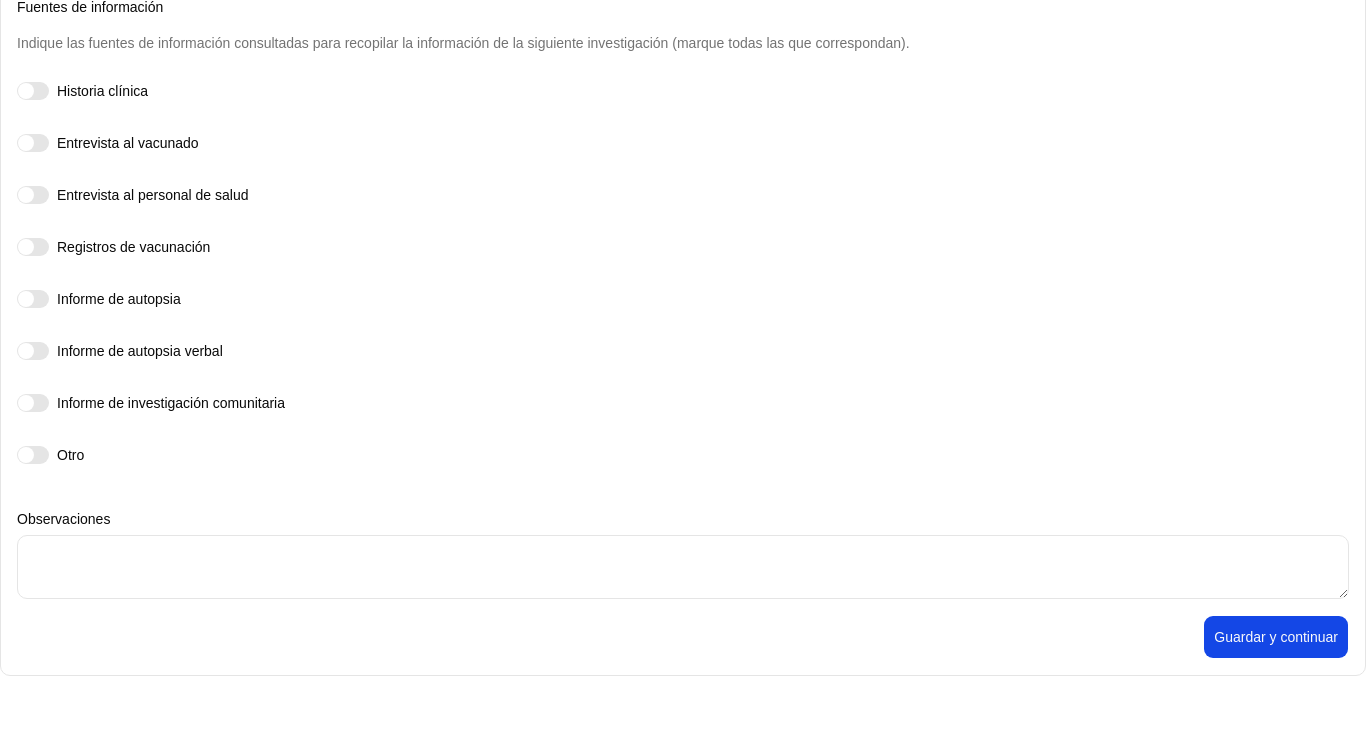
Test: InvestigationStep — recorrido de las tres secciones de embarazo (SPEC FE13b §4 paso 9) › cambio de desenlace con condiciones cargadas: no manda ninguna petición y abre el diálogo de bloqueo
Click the button "Guardar y continuar" at [1276, 637], box [1203,615,1349,659]
(page scrolled)
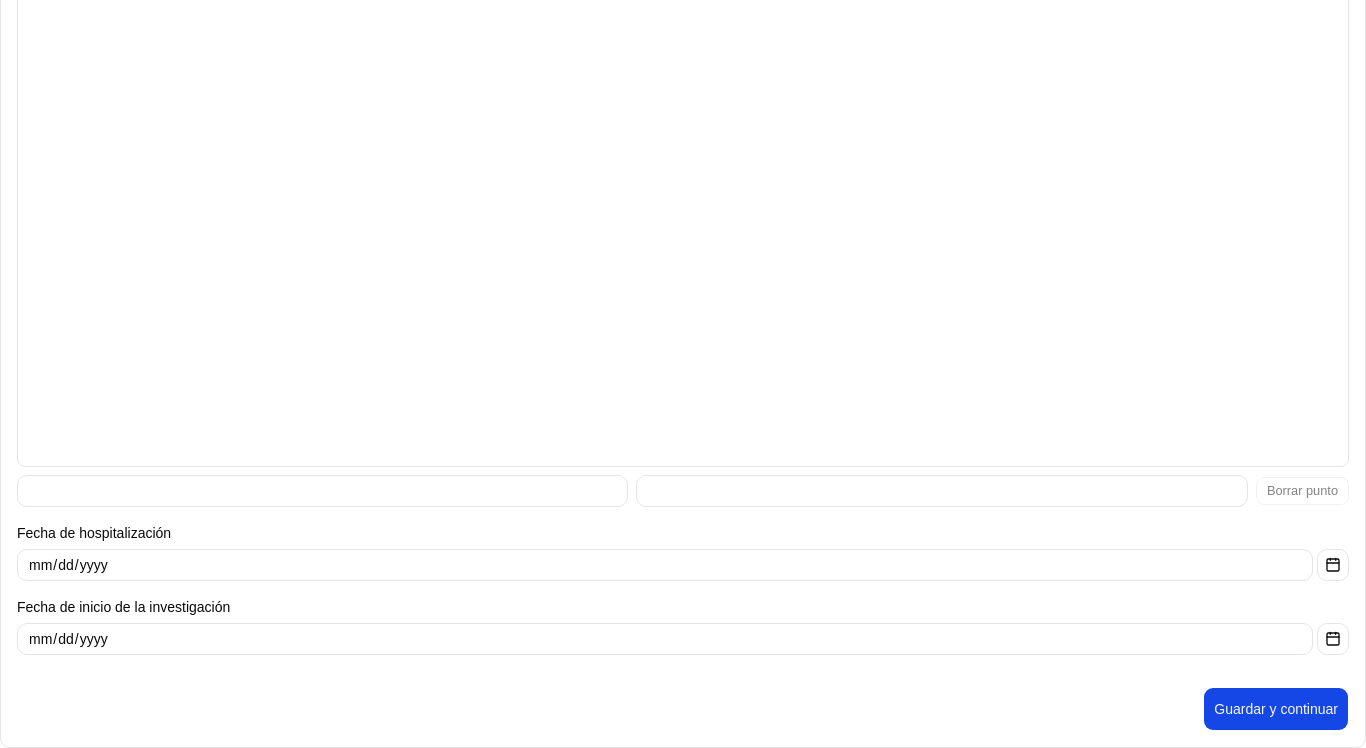
Click the button "Guardar y continuar" at [1276, 708], box [1203,686,1349,730]
(page scrolled)
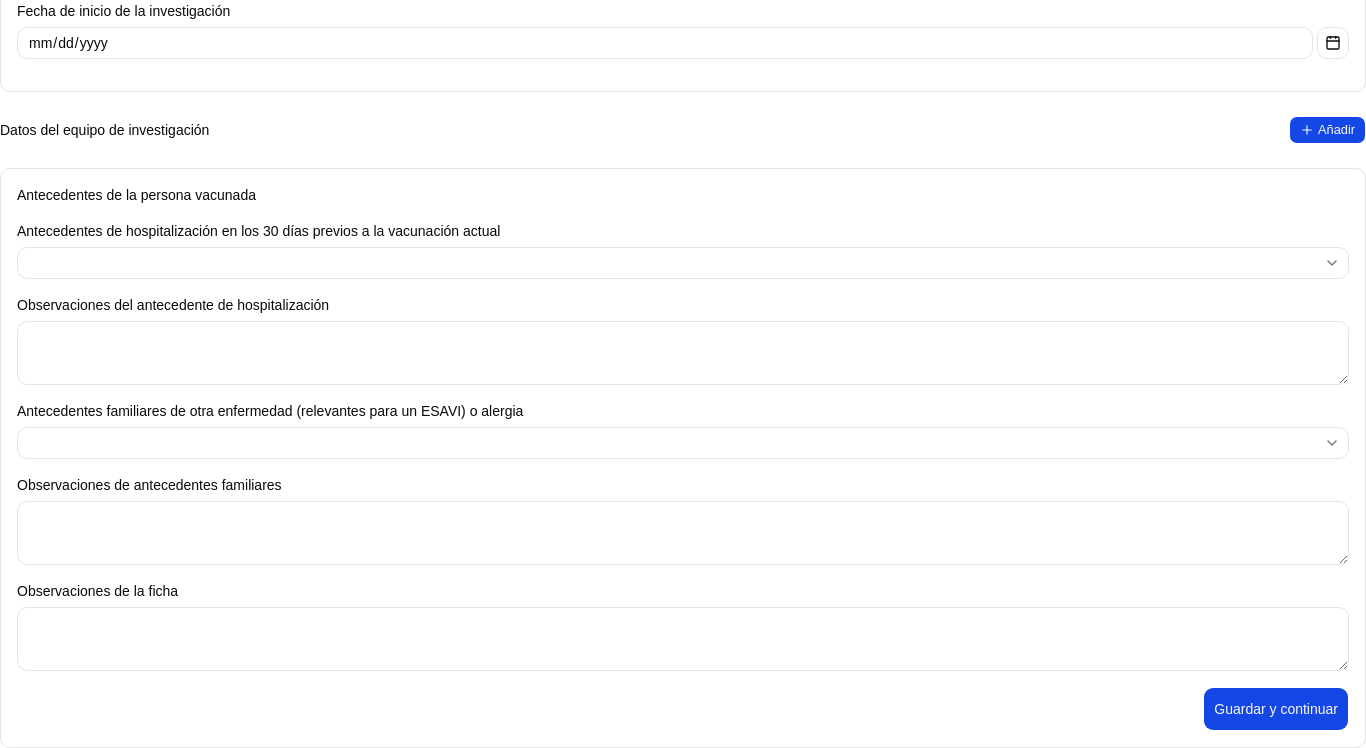
Expected: the heading "Datos del equipo de investigación" is shown, [0,120,209,140]
Click the button "Guardar y continuar" at [1276, 708], box [1203,686,1349,730]
(page scrolled)
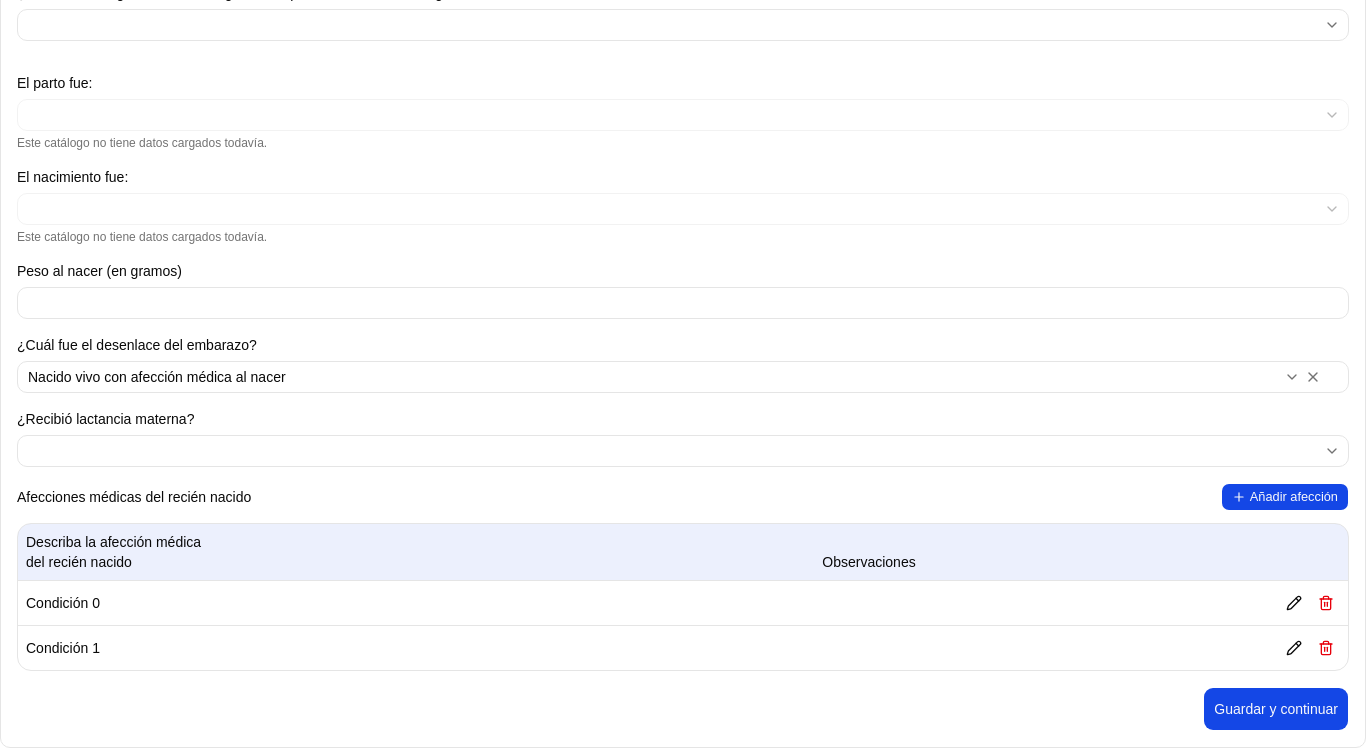
Expected: the heading "Afecciones médicas del recién nacido" is shown, [17,486,251,506]
Click the dropdown named "¿Cuál fue el desenlace del embarazo?" at [157, 376], box [17,360,1349,392]
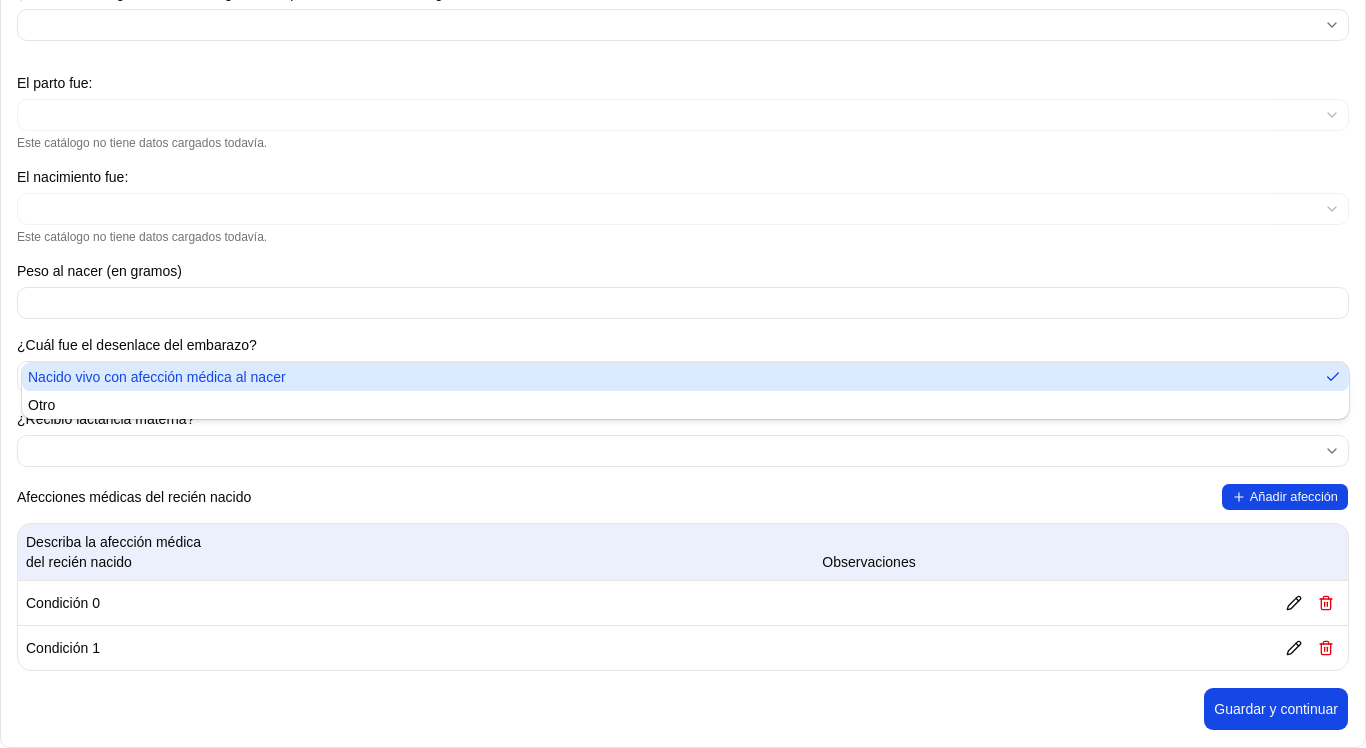
Click the option "Otro" at [42, 404], box [28,396,55,412]
(page scrolled)
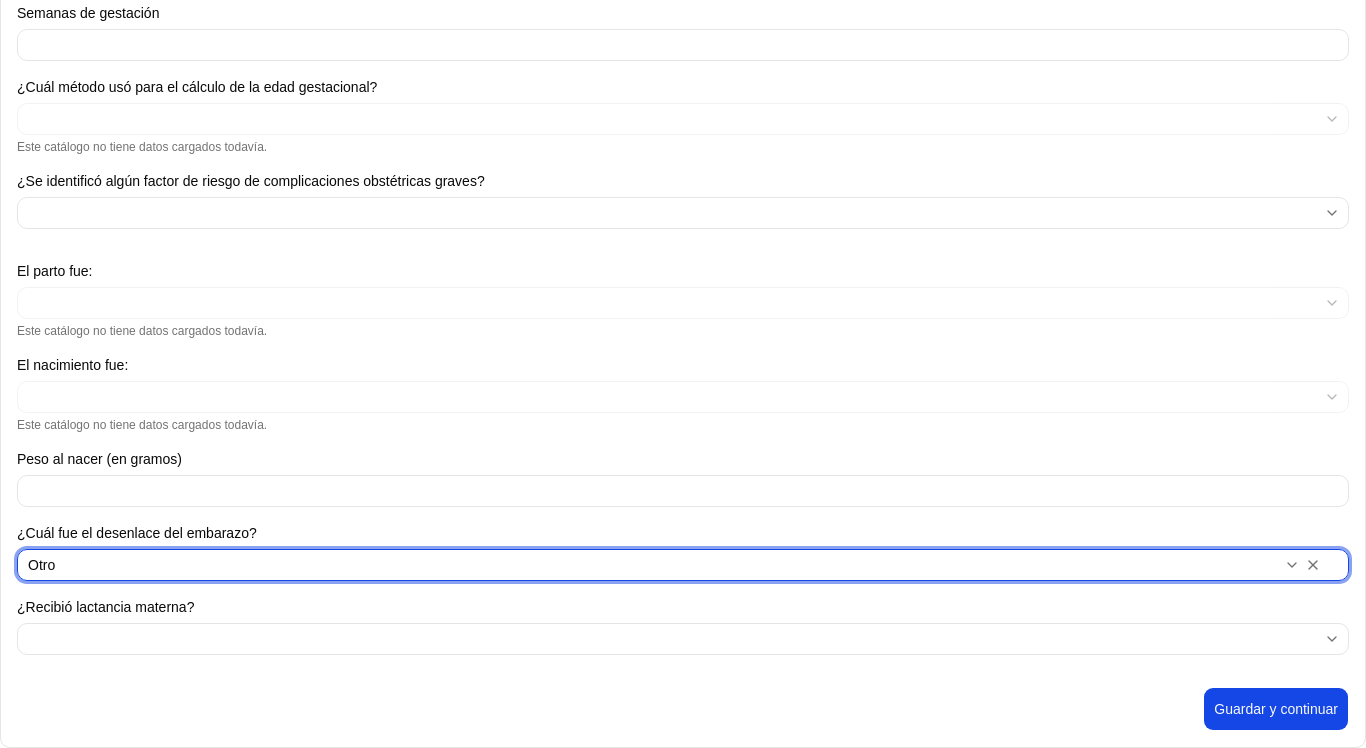
Click the button "Guardar y continuar" at [1276, 708], box [1203,686,1349,730]
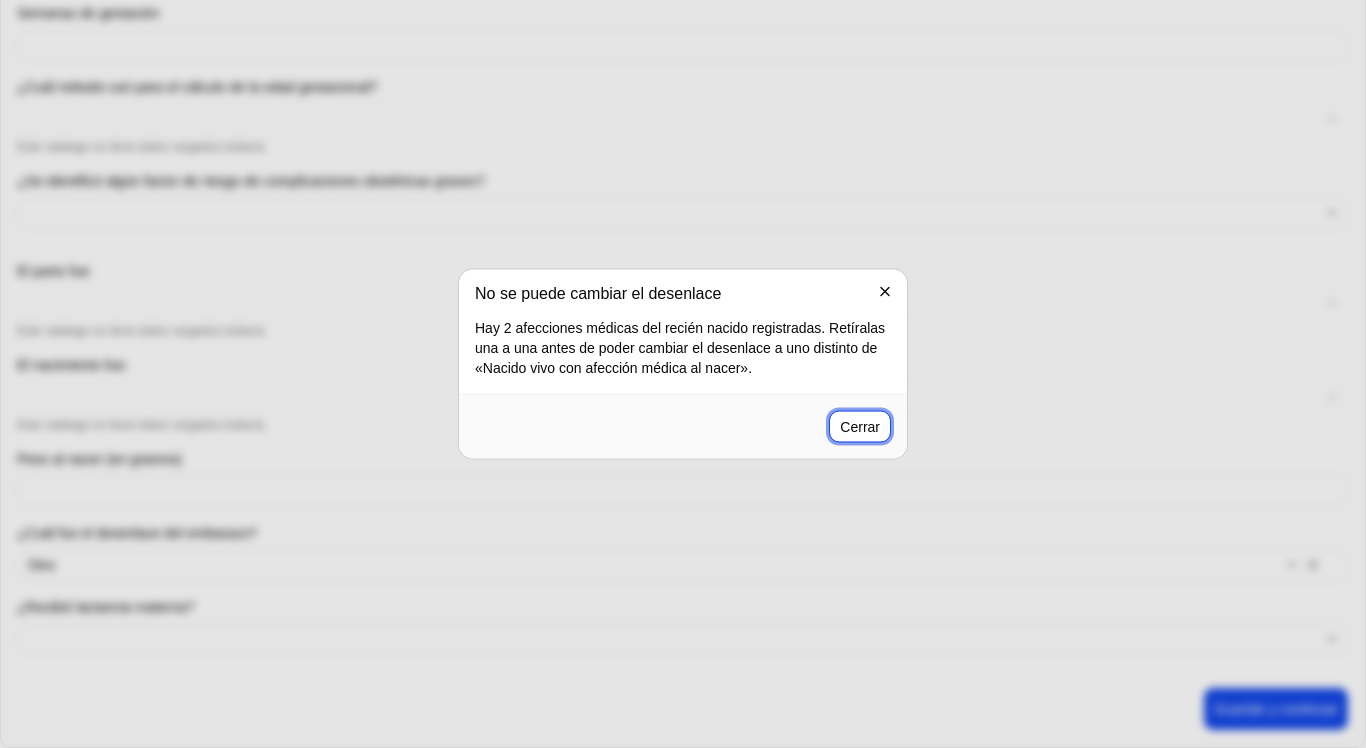
Expected: the heading "No se puede cambiar el desenlace" is shown, [475,284,721,302]
